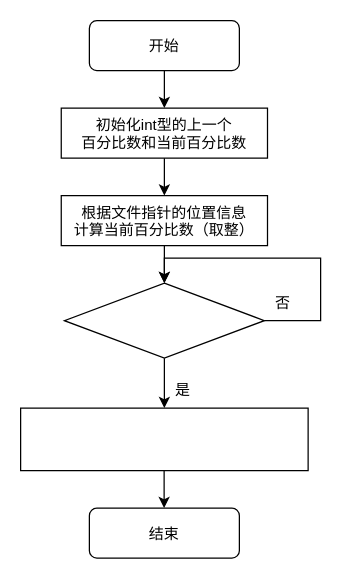
The diagram is 341 pixels wide and 579 high, and some of its shapes have lost their labels. The shapes that lost their labels are listed below. From the top down, each one's centre as x and y in pixels, then its label:
[163,320]: 是否大于上一百分比数
[163,439]: 输出当前进度信息和相关错误位/行信息
